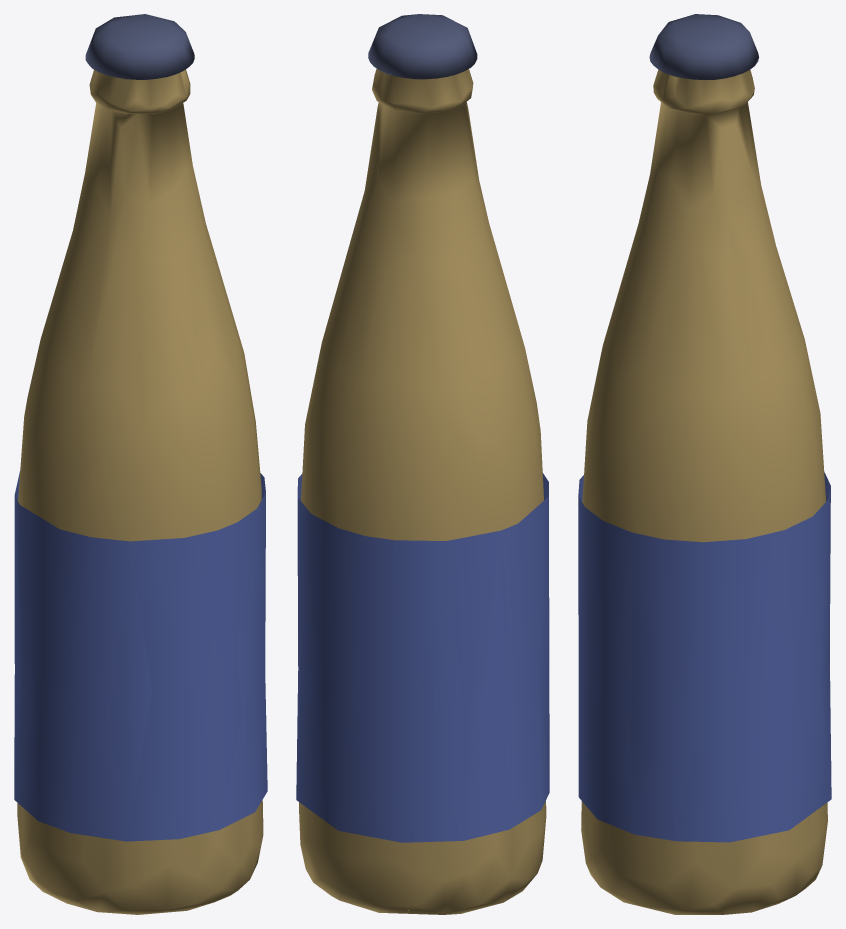
Rendered from a-bottle-of-beer.fbx.
The picture shows the model from 3 angles, left to right: view 1: azimuth 30°, elevation 25°; view 2: azimuth 150°, elevation 25°; view 3: azimuth 270°, elevation 25°; orthographic projection.
Parts seen in each view (by area): view 1: MainGlass, Paper, Top; view 2: MainGlass, Paper, Top; view 3: MainGlass, Paper, Top.
Boxes of the visible parts, x1,y1,x2,y2 form: MainGlass: (17,69,263,914); Paper: (14,470,267,841); Top: (85,14,194,79); MainGlass: (299,69,546,914); Paper: (296,473,549,842); Top: (368,14,477,79); MainGlass: (581,70,827,914); Paper: (578,472,831,842); Top: (649,14,758,79).
Bounding box in the file's own units: 109 × 399 × 109.
